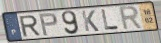9: (60, 10, 80, 36)
K: (81, 9, 101, 32)
L: (100, 9, 120, 31)
P: (38, 12, 59, 37)
R: (118, 5, 144, 32), (18, 14, 42, 38)
